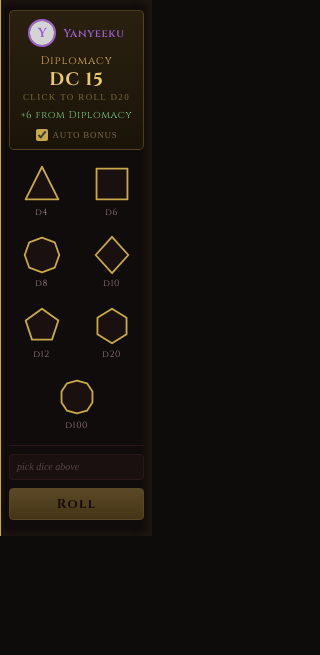
Test: DiceTray — AC-007 auto-apply modifier › shows FAILED badge after roll resolves as fail (AC-007)
Click the button titled "d20".
click(112, 333)  # box [79,300,144,366]
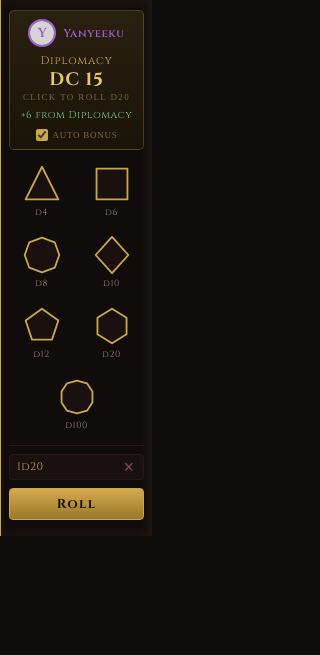
Click the button "Roll".
click(76, 504)  # box [9,488,144,520]
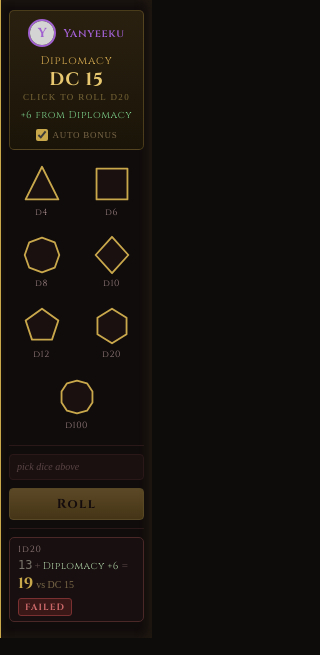
Now the text "FAILED" is shown, box [18,598,72,616]
